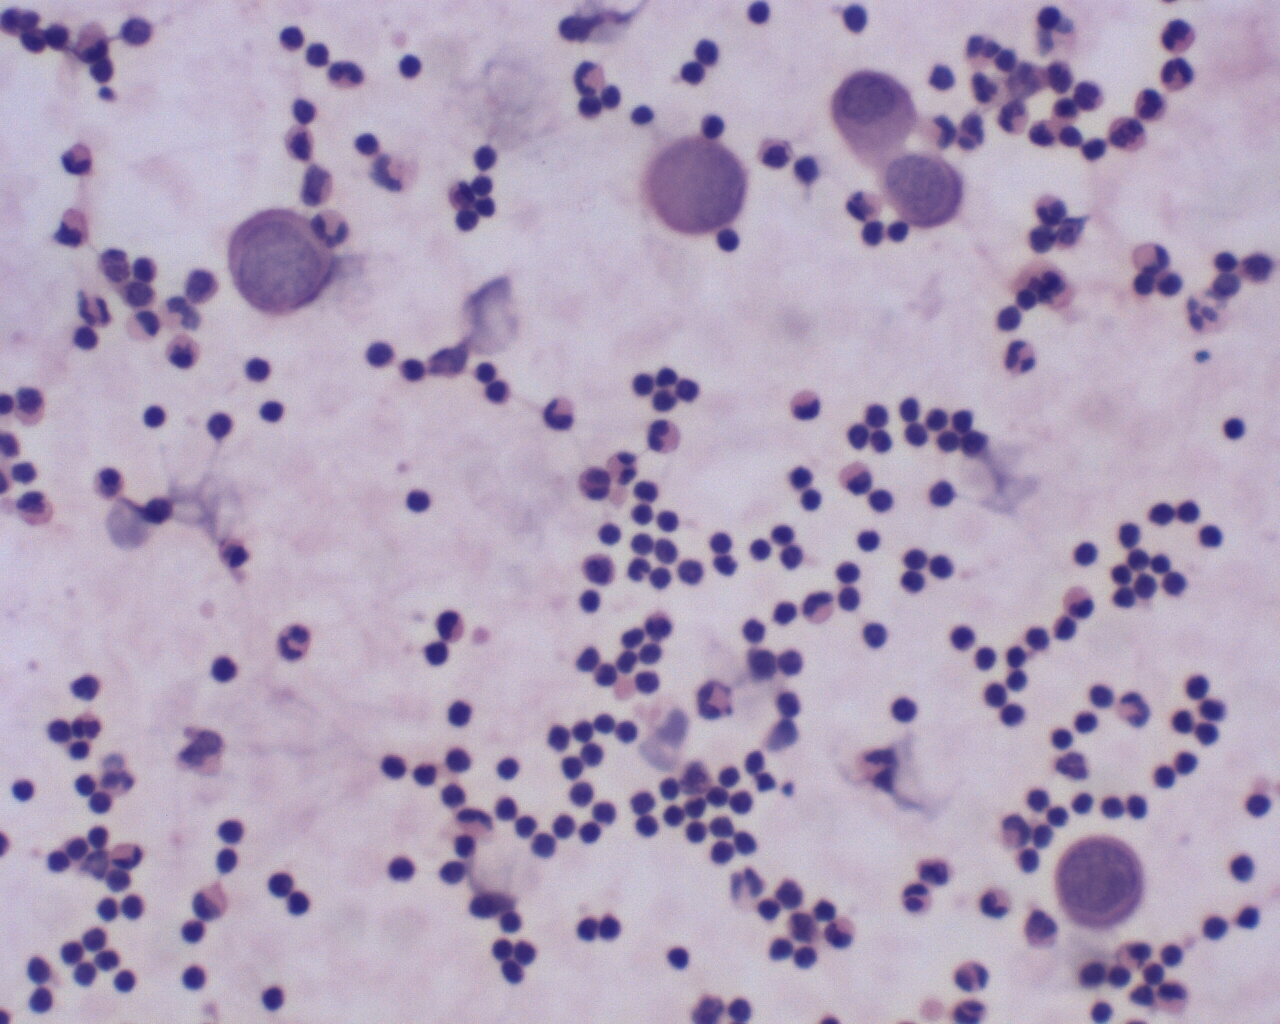ab: (227, 206, 335, 317), (648, 129, 751, 238), (1057, 834, 1151, 938), (830, 70, 924, 174), (886, 147, 965, 234)
lymph: (884, 686, 926, 729), (735, 1, 777, 41), (1216, 408, 1257, 448), (945, 615, 982, 657), (386, 850, 423, 891), (1065, 539, 1104, 578), (202, 408, 239, 444), (858, 616, 895, 653), (442, 697, 479, 734), (394, 51, 436, 83), (852, 526, 886, 559), (704, 523, 739, 556), (404, 482, 435, 517)
neutro: (274, 620, 321, 666), (999, 332, 1043, 378), (642, 416, 688, 459), (542, 393, 585, 436), (1157, 57, 1202, 97), (897, 881, 939, 921), (975, 885, 1016, 925), (1116, 686, 1151, 731)
